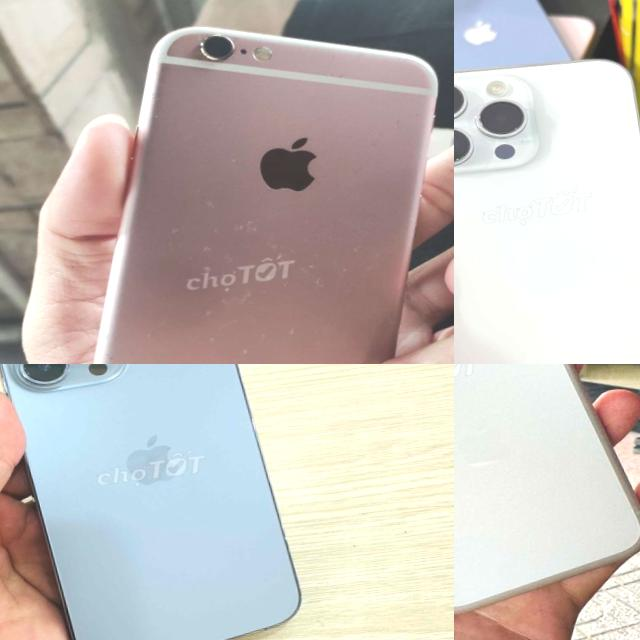gen_12_13: (0, 364, 313, 640)
gen_14: (454, 44, 640, 364)
gen_17: (454, 364, 640, 636)
gen_6: (94, 27, 436, 364)
